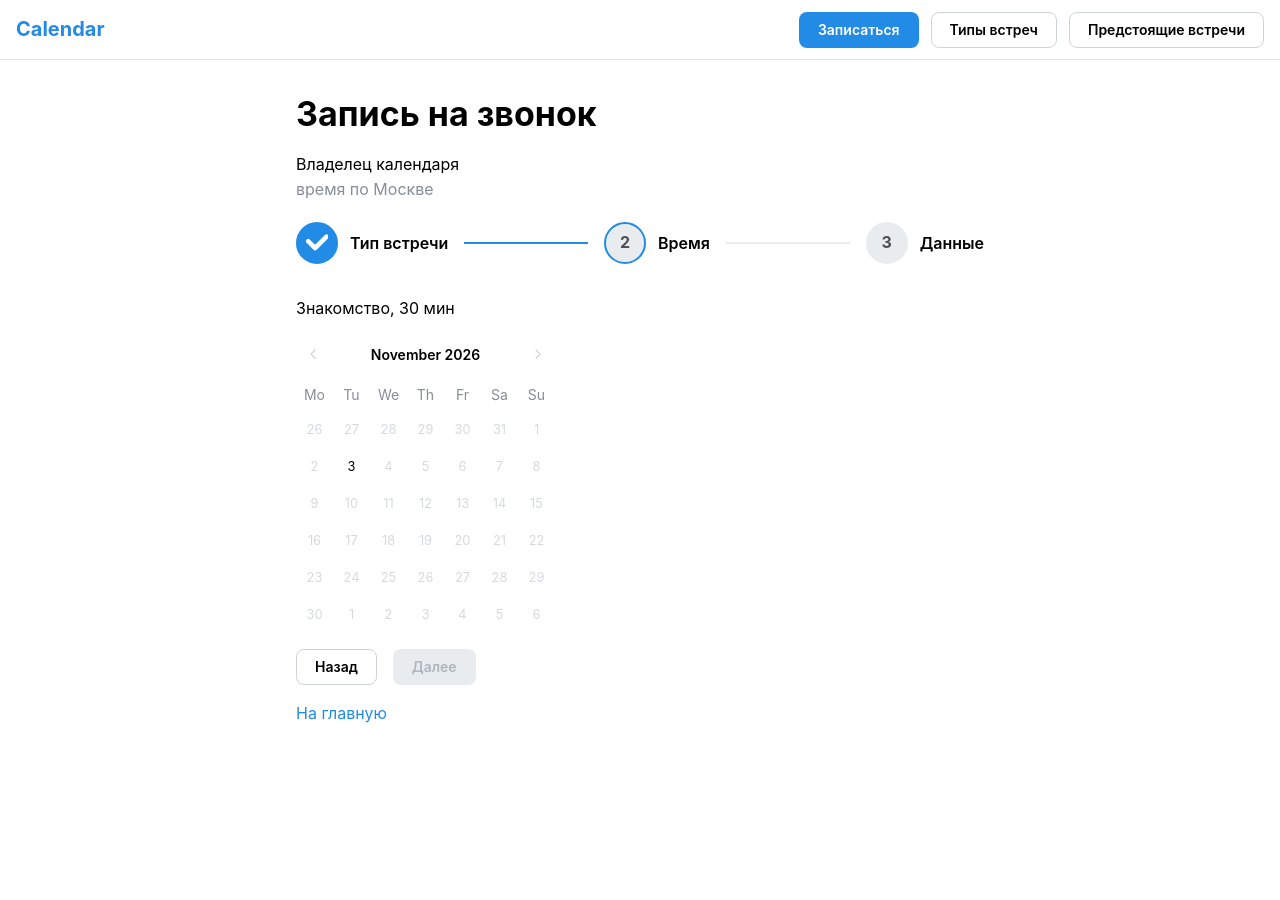
шаг «Данные» › отправляет данные и показывает подтверждение
Click the button named "3 November 2026" at (352, 467), box [334,449,370,485]
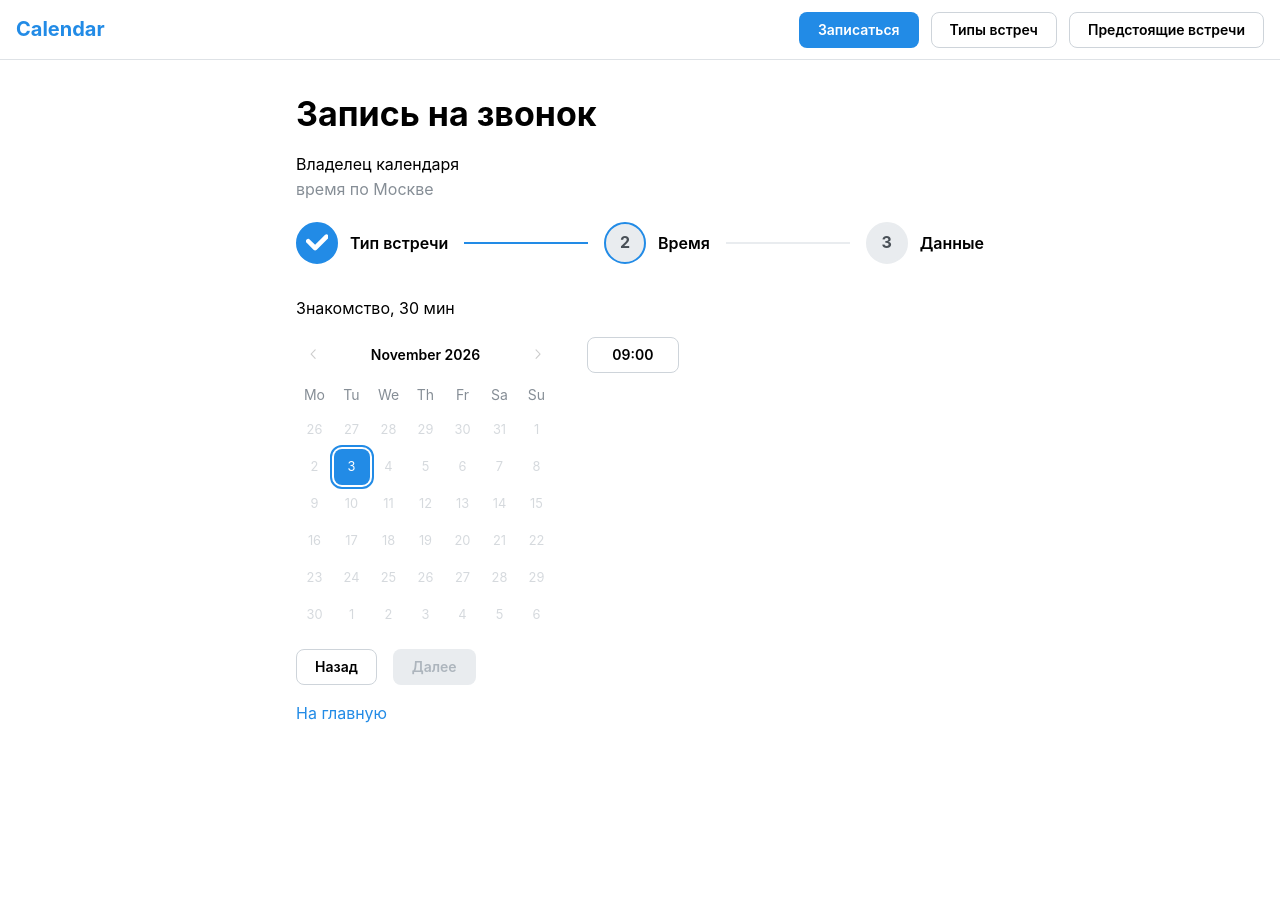
Click the button "09:00" at (633, 355), box [587,337,679,373]
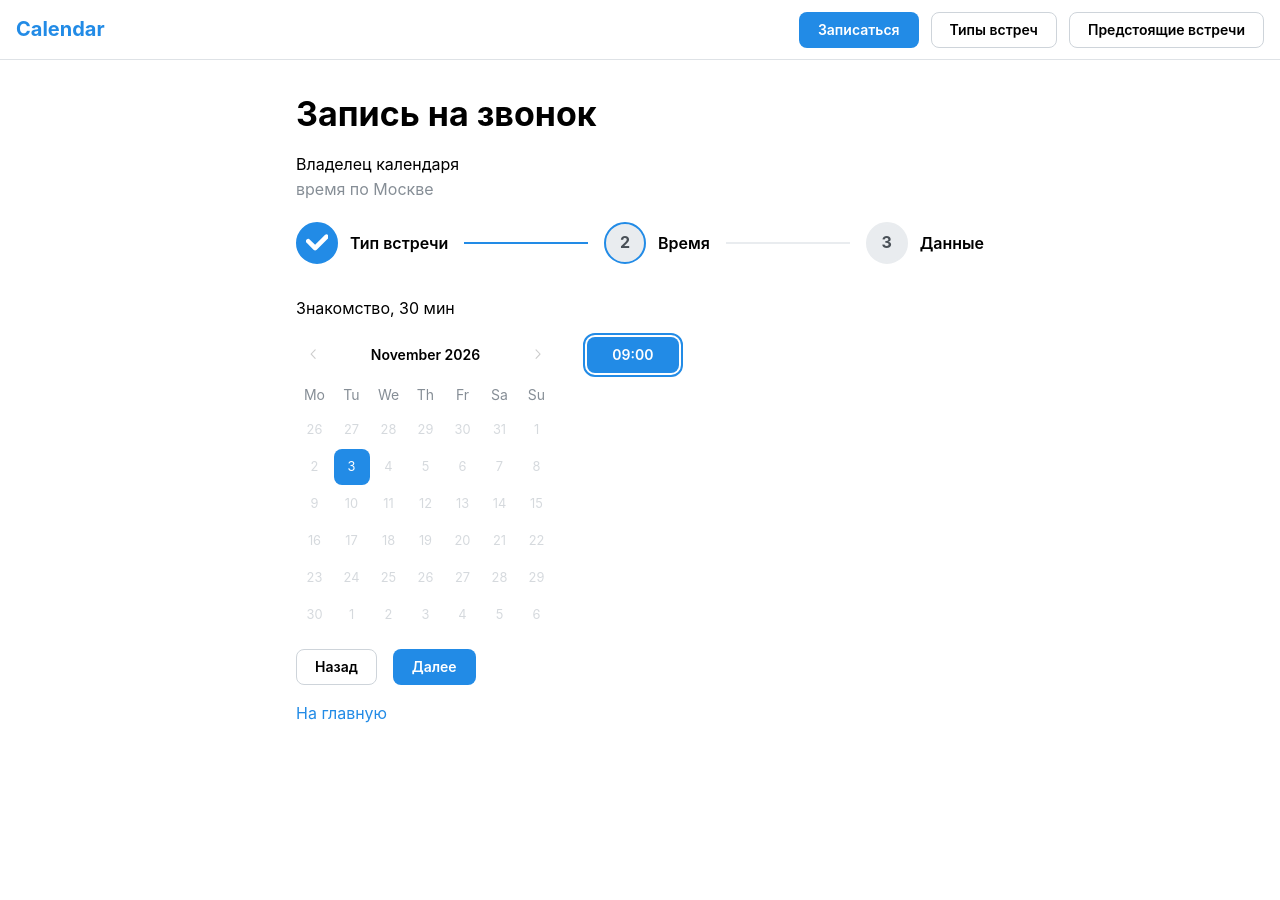
Click the button "Далее" at (434, 667), box [393,649,476,685]
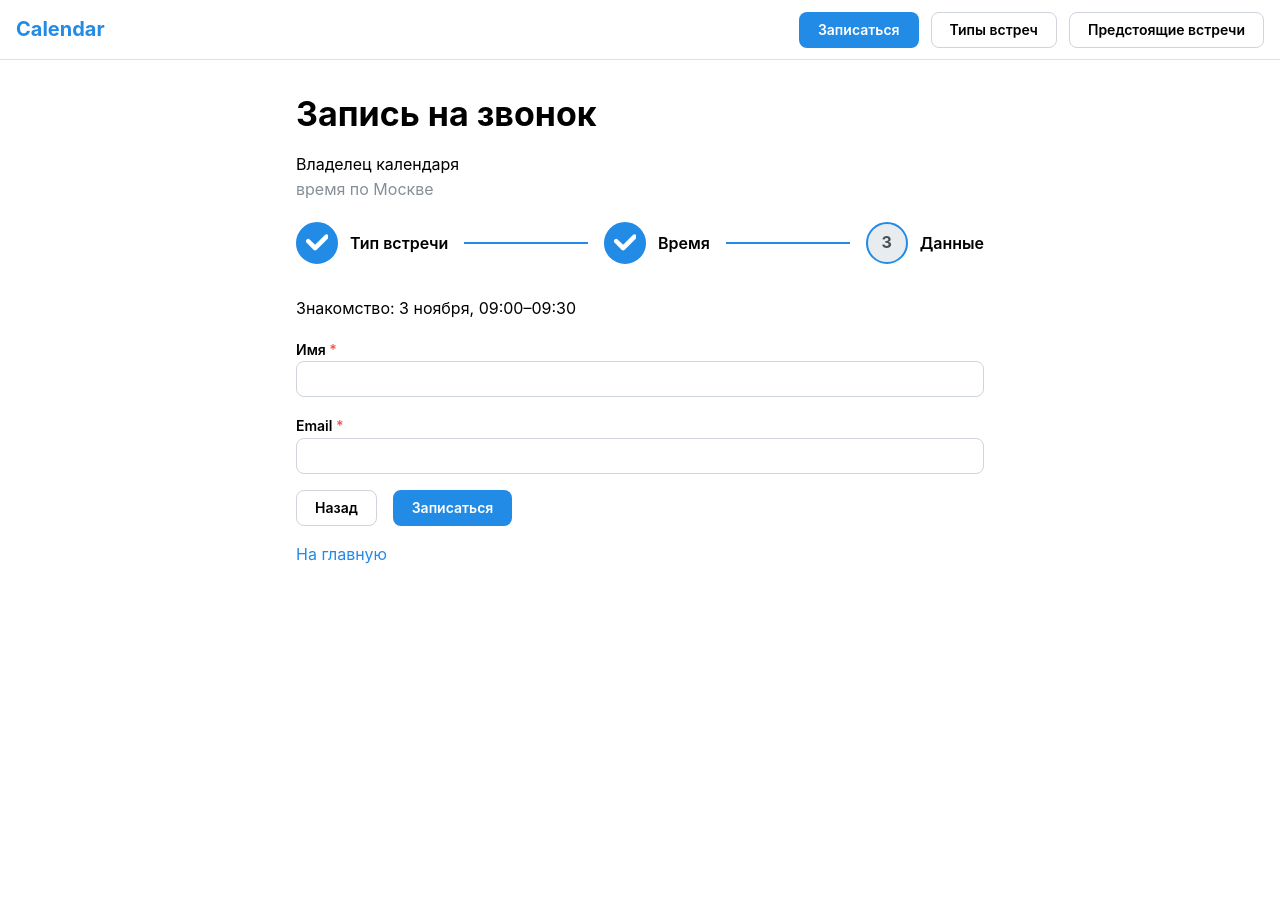
Type "Анна" into the field labelled "Имя *" at (640, 379), box [296,361,984,397]
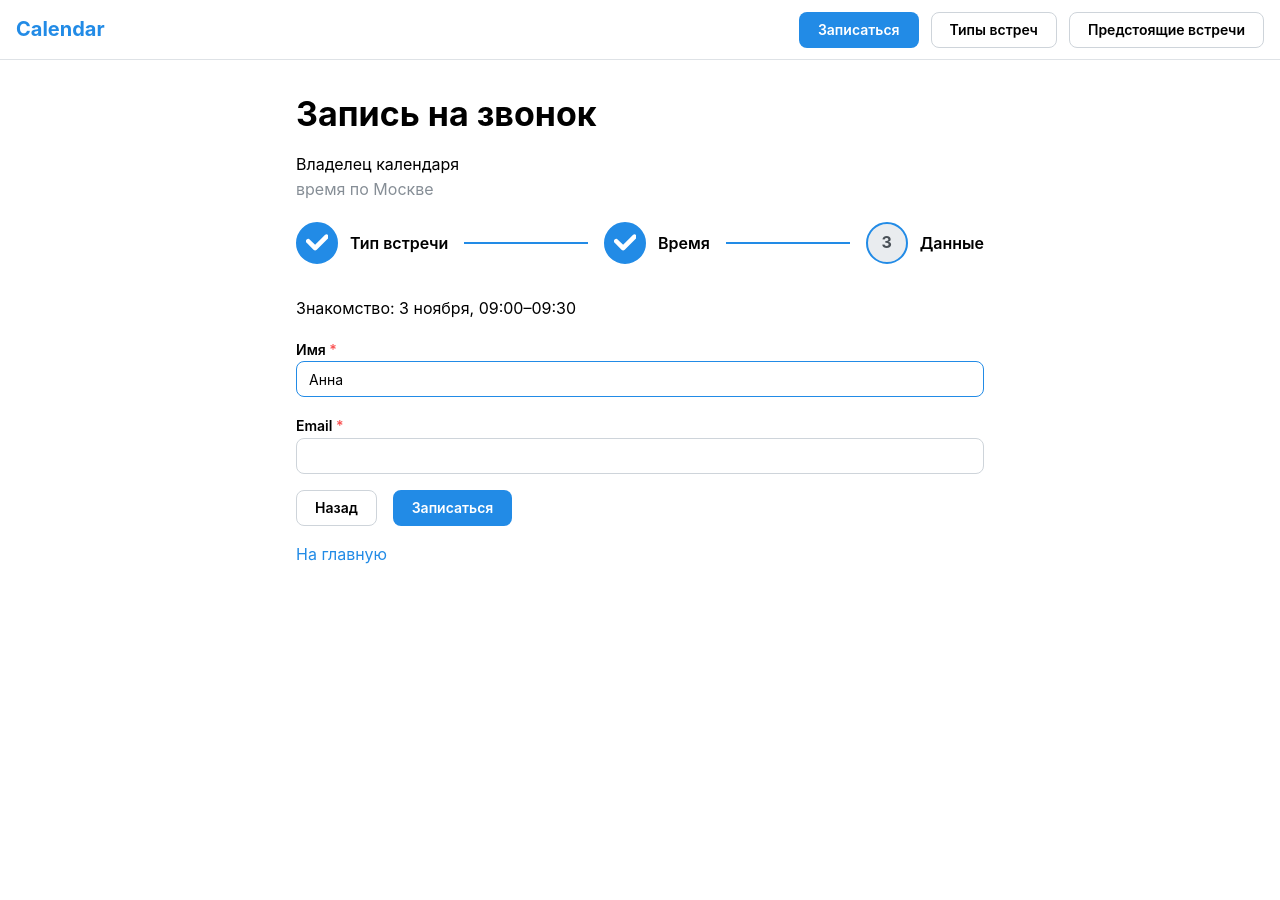
Type "anna@example.com" into the field labelled "Email *" at (640, 456), box [296,438,984,474]
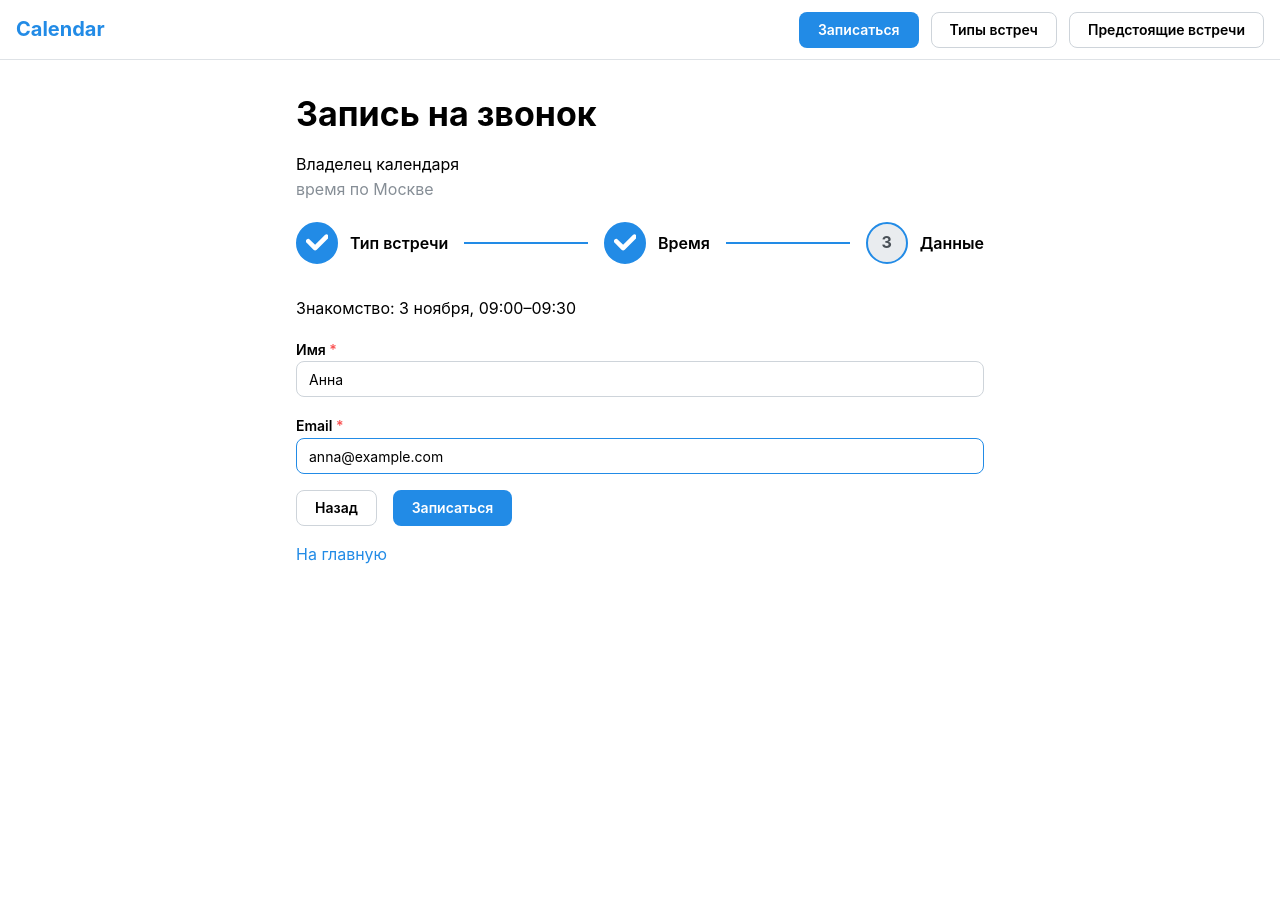
Click the button "Записаться" below "Email" at (452, 508), box [393,490,512,526]
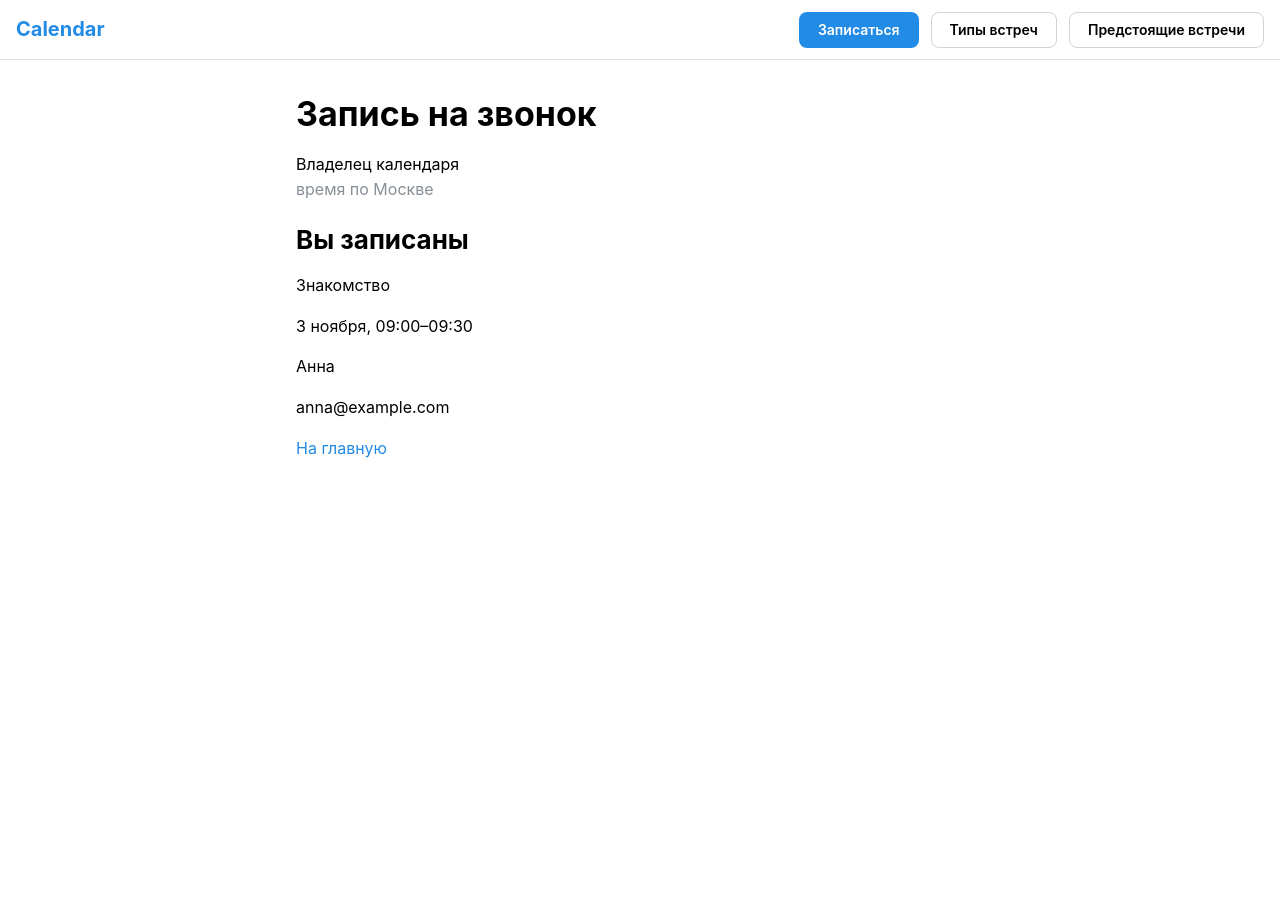
Check: the text "3 ноября, 09:00–09:30" is shown, box [296,316,473,336]
Check: the heading "Вы записаны" is shown, box [296,224,469,255]
Check: the text "Анна" is shown, box [296,356,335,376]
